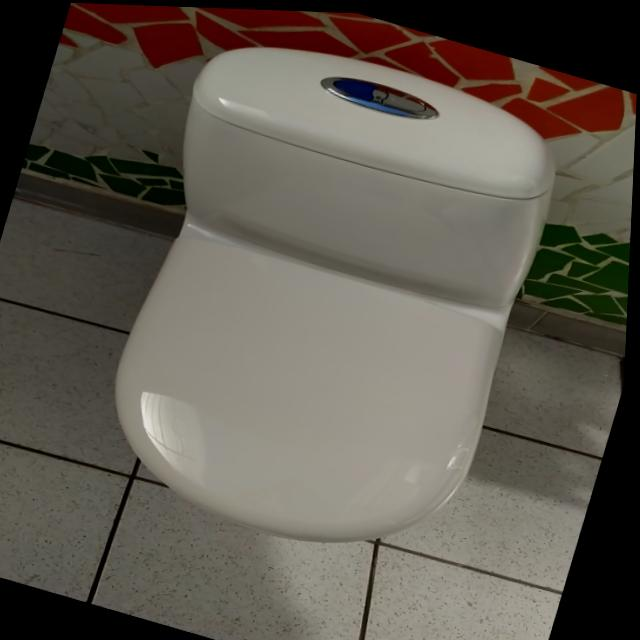toilet: (77, 10, 583, 583)
